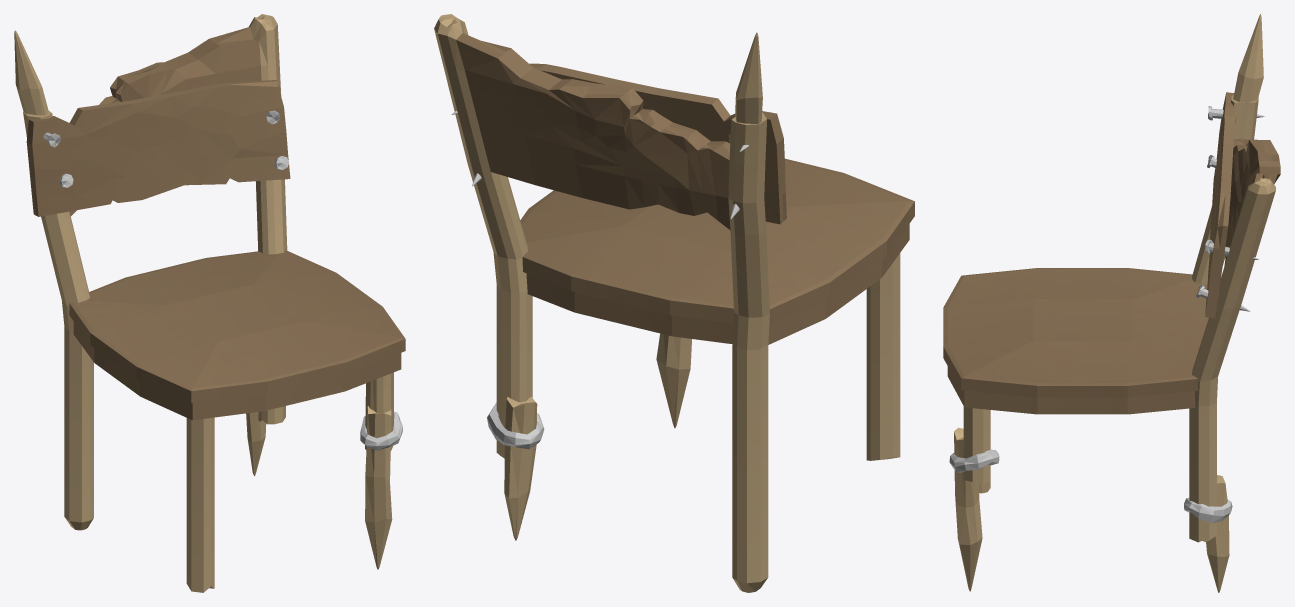
Rendered from chair_repaired_3.dae.
3 views of the same model, side by side, from view 1: azimuth 30°, elevation 25°; view 2: azimuth 150°, elevation 25°; view 3: azimuth 270°, elevation 25° (orthographic). The views are drawn at different scales.
Visible parts, largest first — view 1: chair_repaired_3; view 2: chair_repaired_3; view 3: chair_repaired_3.
Boxes of the visible parts, <box> form: chair_repaired_3: <box>14,14,405,592</box>; chair_repaired_3: <box>434,14,914,592</box>; chair_repaired_3: <box>943,14,1280,592</box>.
Size of the model in its own units: 0.4754 by 0.5374 by 0.8335.
